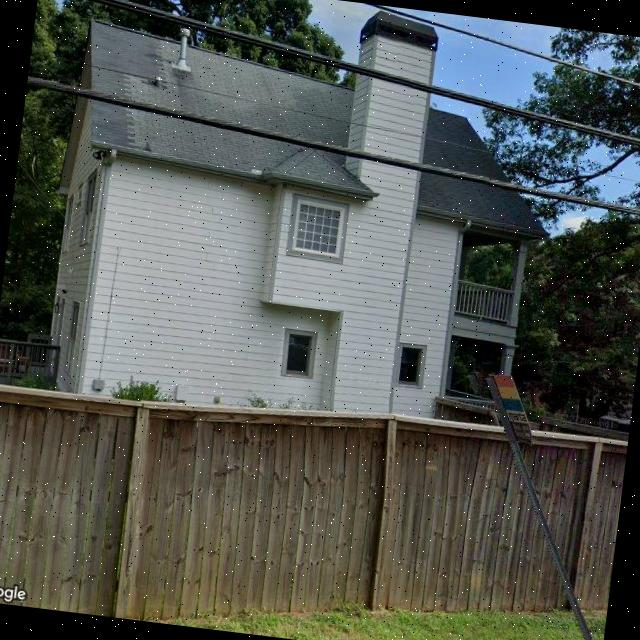seating: (0, 581, 30, 607)
